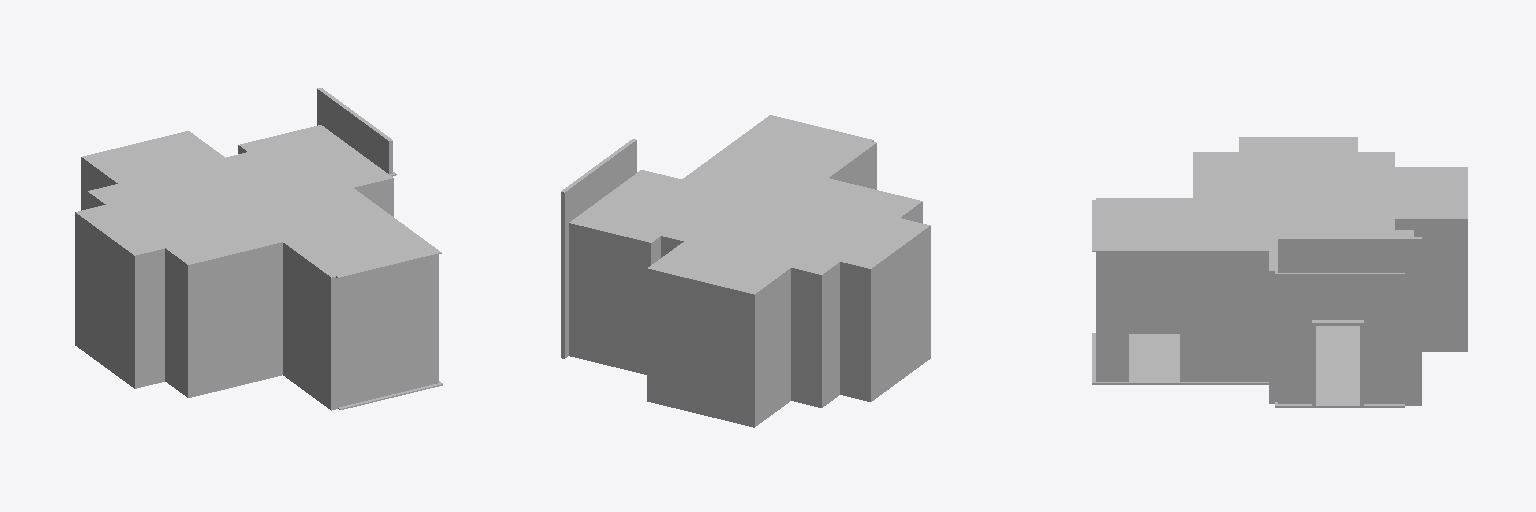
Rendered from bathroom.obj.
3 renders of one model, left to right at view 1: azimuth 30°, elevation 25°; view 2: azimuth 150°, elevation 25°; view 3: azimuth 270°, elevation 25°, orthographic.
Visible parts, largest first — view 1: polySurface2694; view 2: polySurface2694; view 3: polySurface2694.
Part boxes in pixels (left/top/right/bottom): polySurface2694: left=75, top=88, right=442, bottom=410; polySurface2694: left=561, top=115, right=930, bottom=427; polySurface2694: left=1092, top=137, right=1467, bottom=407.
Bounding box in the file's own units: 8.92 × 5 × 10.24.